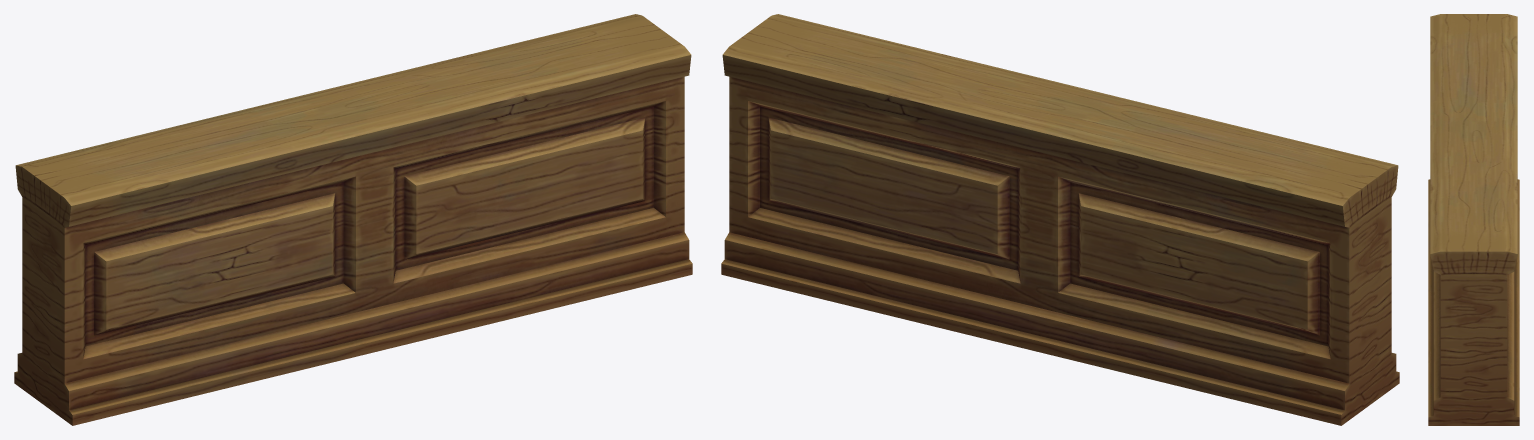
Rendered from WallLower.fbx.
The picture shows the model from 3 angles, left to right: view 1: azimuth 30°, elevation 25°; view 2: azimuth 150°, elevation 25°; view 3: azimuth 270°, elevation 25°; orthographic projection. The views are drawn at different scales.
Parts seen in each view (by area): view 1: Wall_Bottom_low.002; view 2: Wall_Bottom_low.002; view 3: Wall_Bottom_low.002.
Boxes of the visible parts, <box> form: Wall_Bottom_low.002: <box>14,14,692,425</box>; Wall_Bottom_low.002: <box>721,14,1399,425</box>; Wall_Bottom_low.002: <box>1428,14,1519,425</box>.
Bounding box in the file's own units: 241 × 82.5 × 39.24.
Materials: 1 (1 with a texture image).
